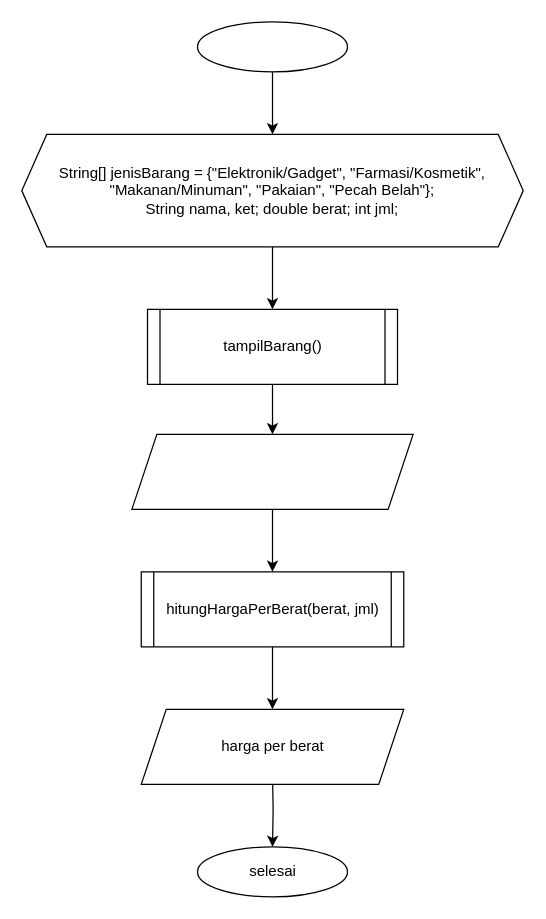
This 546x919 diagram has some shape labels left out. The shapes that lost their labels are listed below. From the top down, each one's centre as x and y in pixels, then its label:
At pixel 272 46: "mulai".
At pixel 272 471: "jenis, nama, berat, jml, ket".
